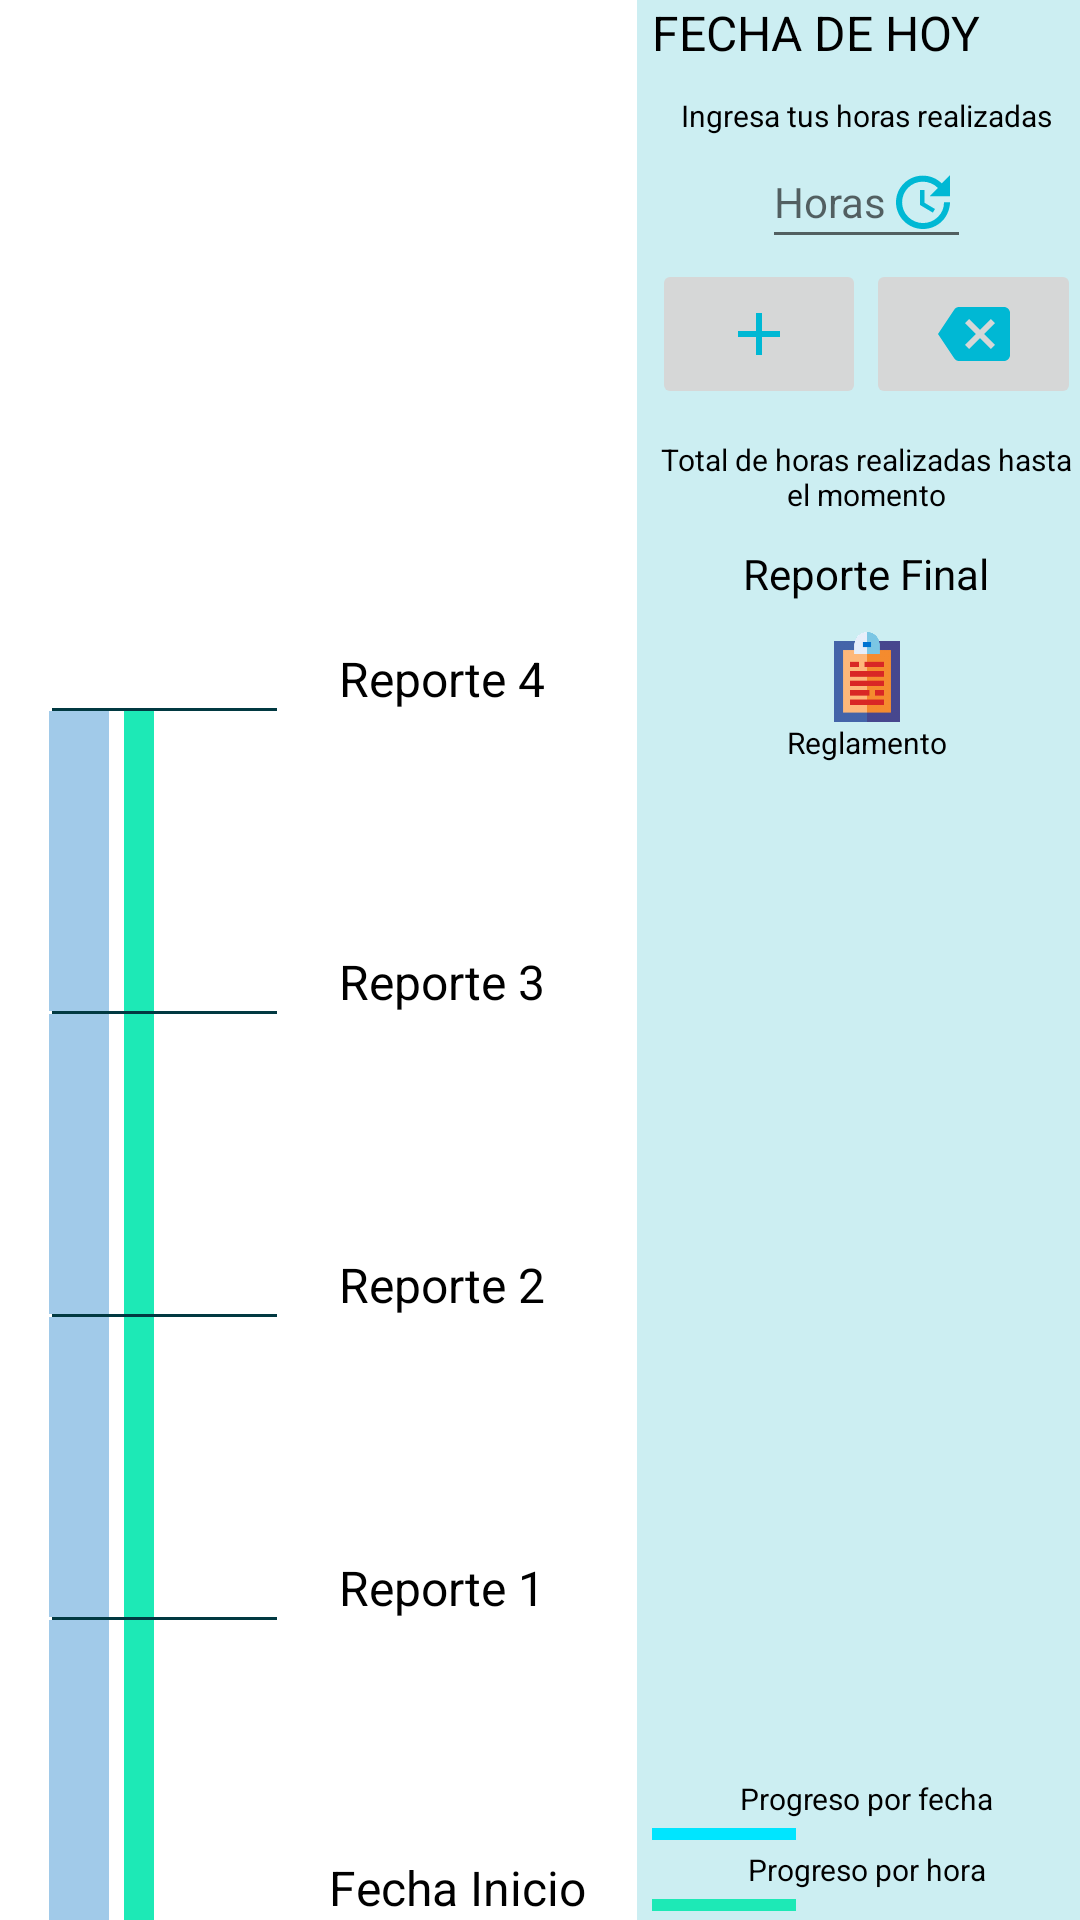

Locate icon controls on the screen. Image size 1080w x 1920h, boxes as (x1, y1, x2, y2).
agregar: (664, 277, 854, 391)
reportes: (834, 632, 900, 722)
